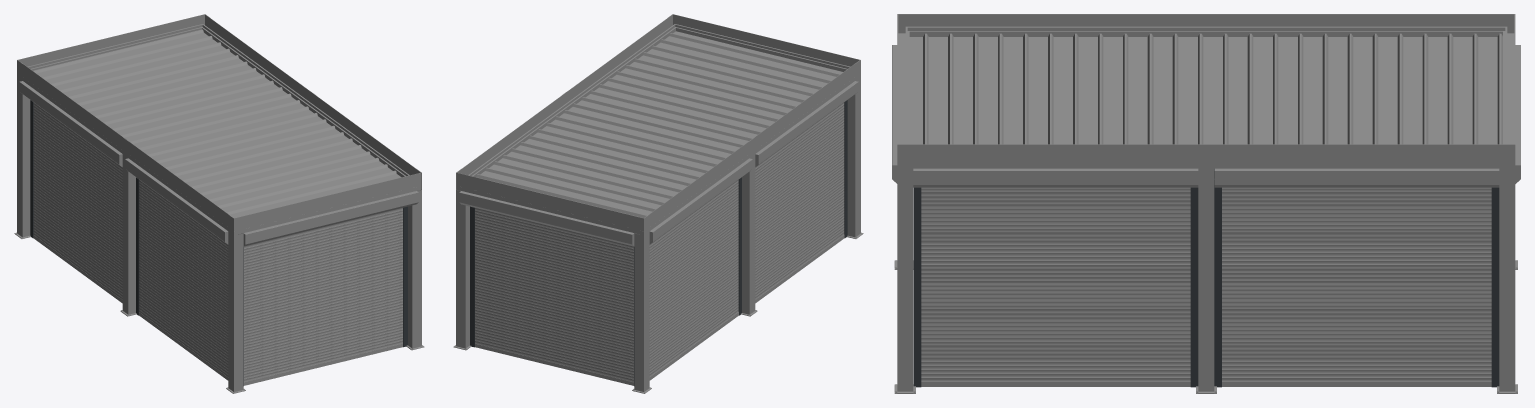
3 renders of one model, left to right at view 1: azimuth 30°, elevation 25°; view 2: azimuth 150°, elevation 25°; view 3: azimuth 270°, elevation 25°, orthographic. The views are drawn at different scales.
Visible parts, largest first — view 1: Line002, Shape4164, Shape4265, Rectangle002, Rectangle006, Line017, Rectangle013, Rectangle004, Rectangle007, Line013, Line012, Box002 (+2 smaller); view 2: Line002, Shape4164, Shape4264, Rectangle002, Rectangle004, Line016, Rectangle013, Rectangle006, Rectangle005, Line012, Line013, Box004 (+2 smaller); view 3: Shape4263, Line002, Rectangle002, Line015, Line014, Rectangle005, Rectangle007, Rectangle014, Box005, Box007, Box008, Box006 (+2 smaller).
Boxes of the visible parts, bbox=[...] form: Line002: bbox=[33, 29, 401, 218]; Shape4164: bbox=[33, 102, 228, 380]; Shape4265: bbox=[244, 208, 402, 385]; Rectangle002: bbox=[18, 14, 421, 235]; Rectangle006: bbox=[228, 214, 243, 391]; Line017: bbox=[243, 191, 418, 246]; Rectangle013: bbox=[122, 137, 135, 314]; Rectangle004: bbox=[17, 60, 30, 237]; Rectangle007: bbox=[408, 169, 421, 348]; Line013: bbox=[125, 158, 228, 244]; Line012: bbox=[19, 81, 122, 166]; Box002: bbox=[403, 206, 407, 347]; Line002: bbox=[476, 31, 842, 218]; Shape4164: bbox=[649, 102, 844, 380]; Shape4264: bbox=[475, 208, 633, 385]; Rectangle002: bbox=[456, 14, 859, 235]; Rectangle004: bbox=[634, 214, 649, 391]; Line016: bbox=[459, 191, 634, 246]; Rectangle013: bbox=[742, 137, 755, 314]; Rectangle006: bbox=[847, 60, 860, 237]; Rectangle005: bbox=[456, 169, 469, 348]; Line012: bbox=[649, 158, 752, 244]; Line013: bbox=[755, 81, 858, 166]; Box004: bbox=[470, 206, 474, 347]; Shape4263: bbox=[921, 187, 1491, 386]; Line002: bbox=[909, 33, 1502, 144]; Rectangle002: bbox=[897, 14, 1514, 168]; Line015: bbox=[913, 168, 1198, 187]; Line014: bbox=[1214, 168, 1499, 187]; Rectangle005: bbox=[1499, 144, 1515, 391]; Rectangle007: bbox=[897, 144, 913, 391]; Rectangle014: bbox=[1198, 144, 1214, 391]; Box005: bbox=[1491, 187, 1499, 387]; Box007: bbox=[913, 187, 921, 387]; Box008: bbox=[1190, 187, 1198, 387]; Box006: bbox=[1214, 179, 1221, 387].
Bounding box in the file's own units: 3104 × 2663 × 6113.
Materials: 4 (2 with a texture image).
